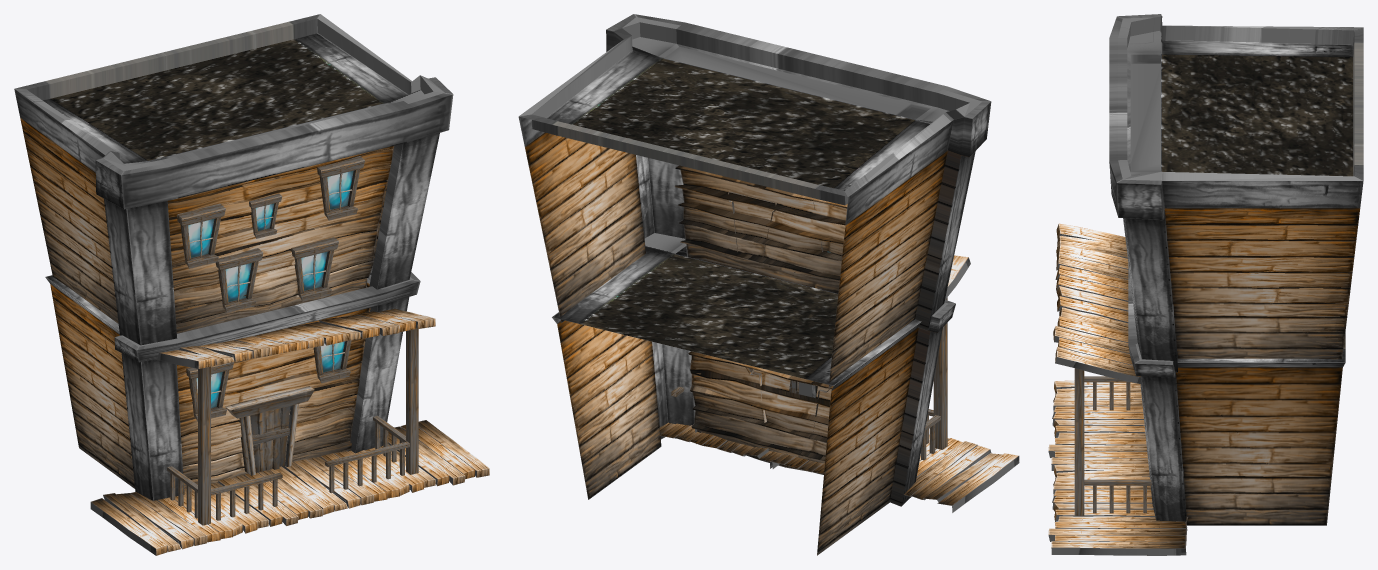
File: Home.FBX
3 renders of one model, left to right at view 1: azimuth 30°, elevation 25°; view 2: azimuth 150°, elevation 25°; view 3: azimuth 270°, elevation 25°, orthographic. The views are drawn at different scales.
Visible parts, largest first — view 1: saloon001; view 2: saloon001; view 3: saloon001.
Boxes of the visible parts, x1,y1,x2,y2 form: saloon001: (14, 14, 489, 555); saloon001: (518, 14, 1019, 555); saloon001: (1048, 14, 1363, 555).
Size of the model in its own units: 1674 by 1725 by 1295.
